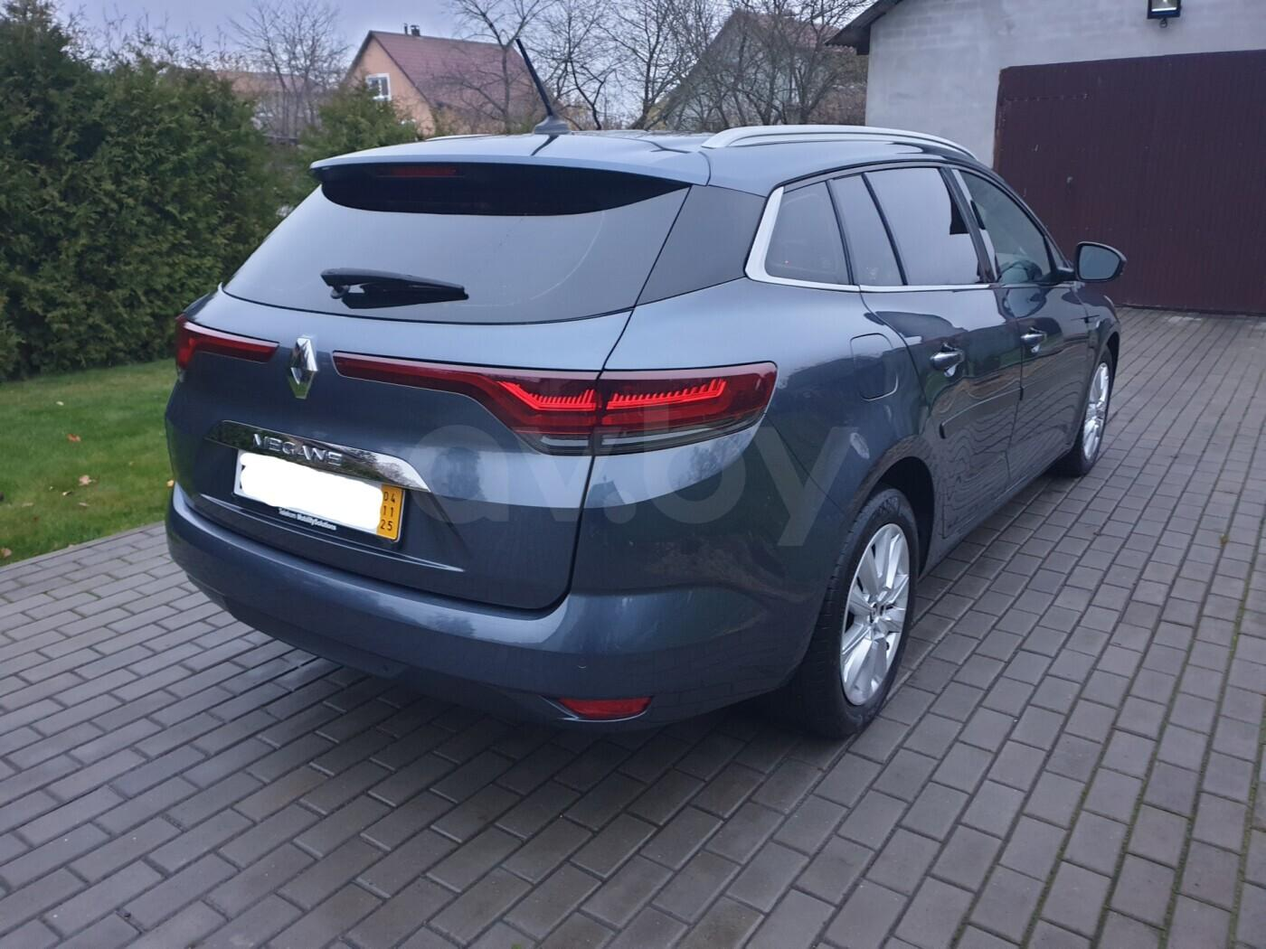Megane_2020: (160, 115, 1133, 746)
